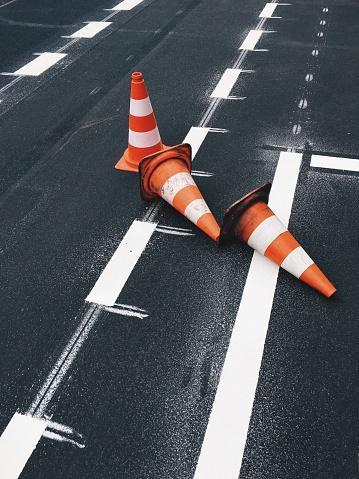Cone: (223, 180, 336, 299), (133, 139, 222, 243), (117, 72, 188, 178)
